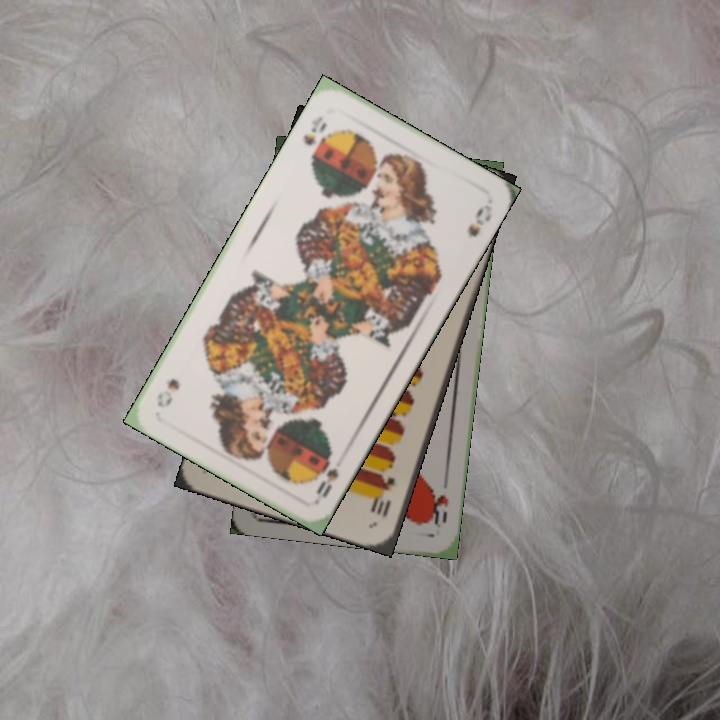E10: (369, 473, 398, 519)
HO: (425, 472, 451, 530)
SO: (311, 447, 342, 504), (299, 112, 330, 161)
